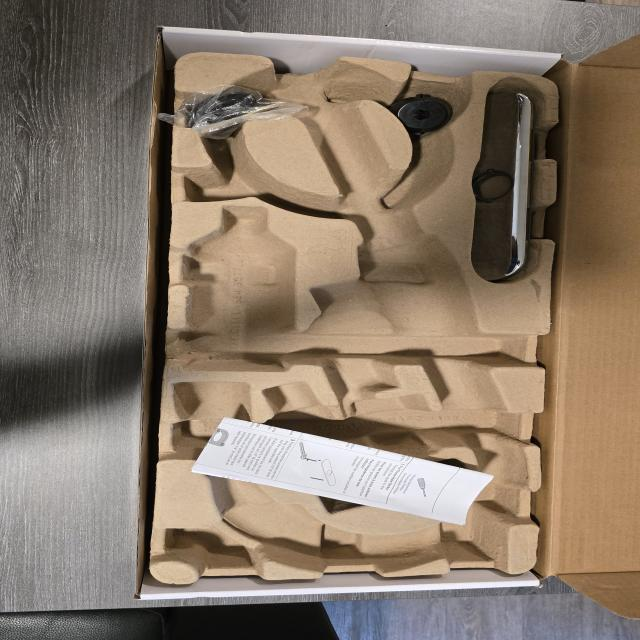1m: (175, 56, 528, 572)
2m: (260, 380, 464, 515)
3m: (186, 205, 295, 372)
4: (469, 92, 533, 282)
5: (398, 94, 456, 134)
6m: (190, 148, 308, 212)
7: (159, 84, 312, 140)
8: (186, 415, 495, 528)
